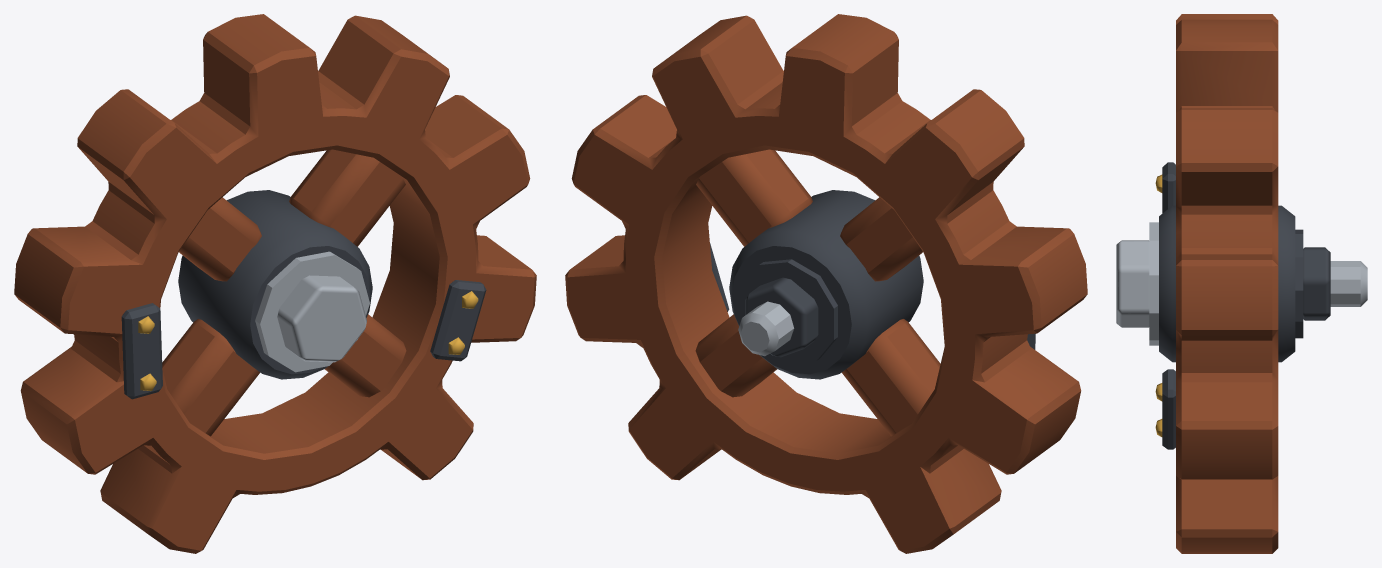
Rendered from item_scrap_gear.glb.
The picture shows the model from 3 angles, left to right: view 1: azimuth 30°, elevation 25°; view 2: azimuth 150°, elevation 25°; view 3: azimuth 270°, elevation 25°; orthographic projection.
Visible parts, largest first — view 1: ScrapGear; view 2: ScrapGear; view 3: ScrapGear.
Boxes of the visible parts, x1=… form: ScrapGear: x1=14, y1=14, x2=536, y2=553; ScrapGear: x1=565, y1=14, x2=1087, y2=553; ScrapGear: x1=1116, y1=14, x2=1367, y2=553.
Bounding box in the file's own units: 0.3972 × 0.3835 × 0.1842.
